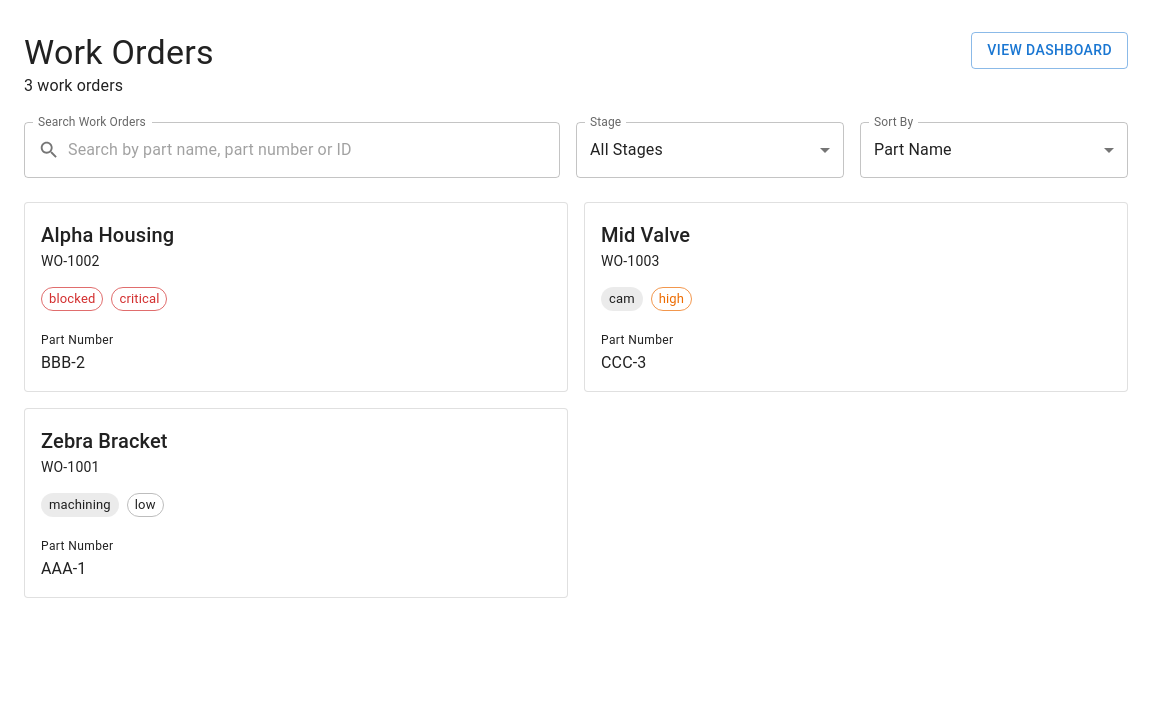
Test case: WorkOrders › filters by search term across id, part name, and part number
Type "alpha" into the field at (314, 150), box [68,122,560,178]
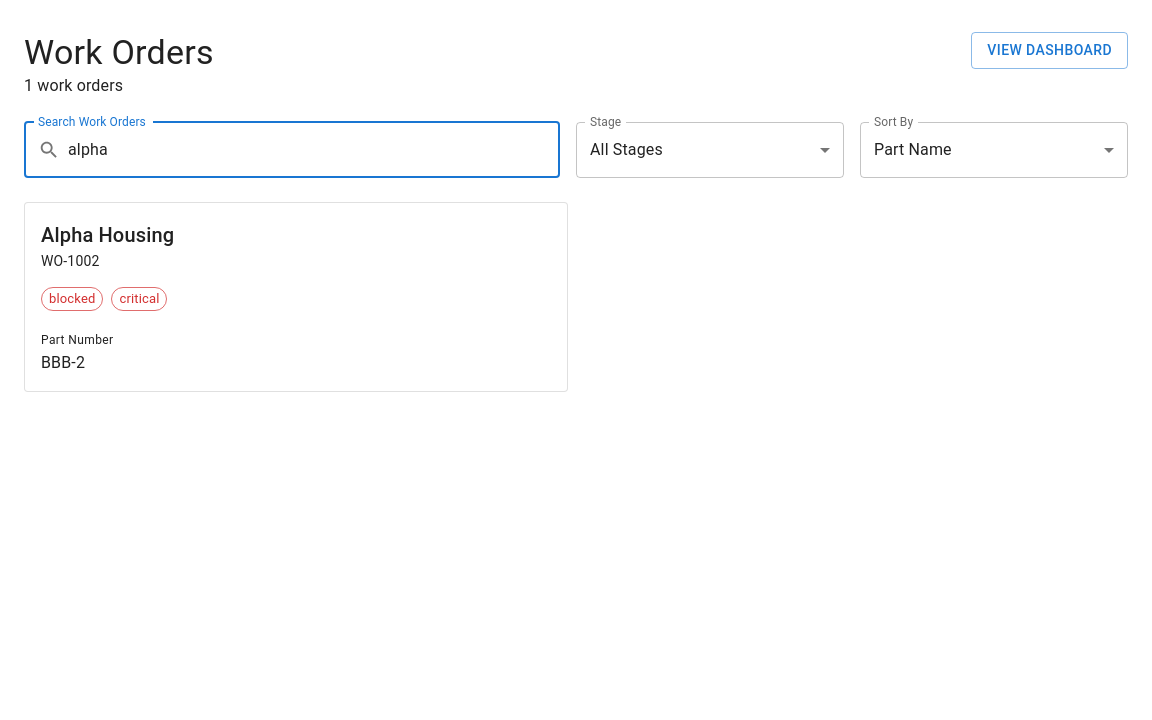
Check: the heading "Alpha Housing" is shown, box [41,223,174,247]
Check: the link "Zebra Bracket" is gone
Check: the link "Mid Valve" is gone
